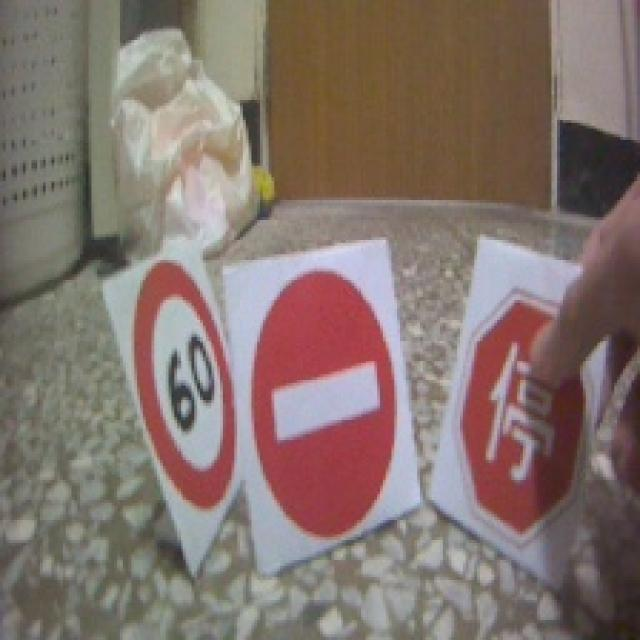DoNotEnterSign: (252, 268, 398, 540)
